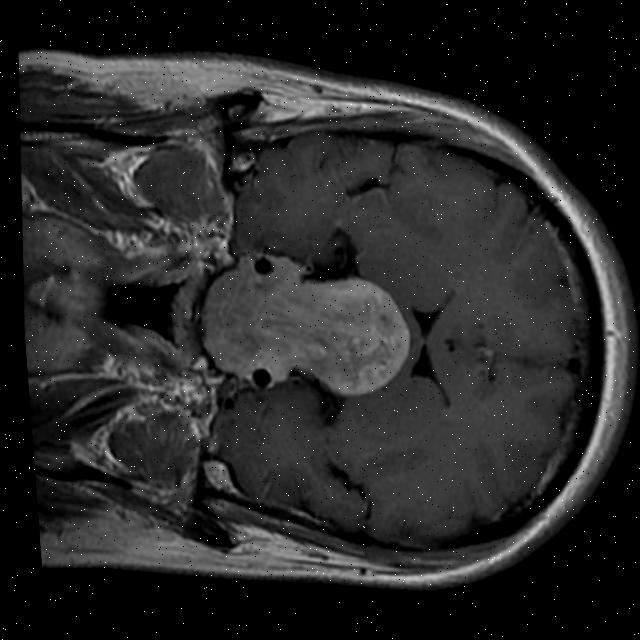Pituitary: (196, 268, 419, 402)
